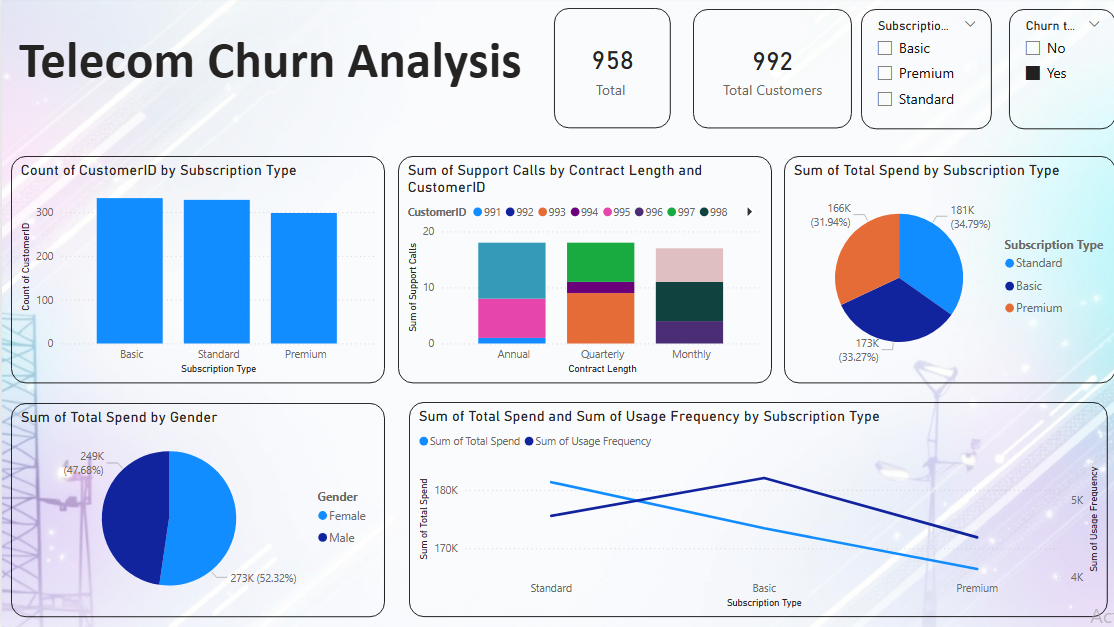

The page's visual inventory and layout, read from the dashboard file:
{"tool":"powerbi","page":{"name":"Page 1","canvas":[1280,720],"ordinal":0},"visuals":[{"type":"textbox","box":[10,0,280,280],"z":0},{"type":"textbox","box":[0,8.8,406.6,94.3],"z":1000},{"type":"card","fields":{"Values":["CountNonNull(Sheet1.CustomerID)"]},"box":[364.7,13.6,243.2,165.3],"z":2000},{"type":"card","fields":{"Values":["Count(Sheet1.CustomerID)"]},"box":[619.6,5.8,273.3,173.1],"z":3000},{"type":"slicer","fields":{"Values":["Sheet1.Subscription Type"]},"box":[892.9,8.8,198.4,185.8],"z":4000},{"type":"slicer","fields":{"Values":["Sheet1.churn_txt","Sheet1.Churn"]},"box":[1104,9.7,162.4,185.8],"z":5000},{"type":"columnChart","fields":{"Y":["CountNonNull(Sheet1.CustomerID)"],"Category":["Sheet1.Subscription Type"]},"box":[9.7,182.9,414.3,280.1],"z":6000},{"type":"columnChart","fields":{"Category":["Sheet1.Contract Length"],"Y":["Sum(Sheet1.Support Calls)"],"Series":["Sheet1.CustomerID"]},"box":[434.8,188.7,410.5,297.6],"z":7000},{"type":"pieChart","fields":{"Category":["Sheet1.Subscription Type"],"Y":["Sum(Sheet1.Total Spend)"]},"box":[857.9,214,394.9,272.3],"z":8000},{"type":"pieChart","fields":{"Category":["Sheet1.Gender"],"Y":["Sum(Sheet1.Total Spend)"]},"box":[0,467.8,414.3,233.4],"z":9000},{"type":"lineChart","fields":{"Category":["Sheet1.Subscription Type"],"Y":["Sum(Sheet1.Total Spend)"],"Y2":["Sum(Sheet1.Usage Frequency)"]},"box":[447.4,494.1,656.5,225.7],"z":10000}]}

Visuals, with their boxes in screenshot pixels (x1, y1, x2, y2), scaled from the page's 1280x720 canvas onto the 1114x627 screenshot:
textbox: 9:0:252:244
textbox: 0:8:354:90
card - CountNonNull(Sheet1.CustomerID): 317:12:529:156
card - Count(Sheet1.CustomerID): 539:5:777:156
slicer - Sheet1.Subscription Type: 777:8:950:169
slicer - Sheet1.churn_txt x Sheet1.Churn: 961:8:1102:170
columnChart - CountNonNull(Sheet1.CustomerID) x Sheet1.Subscription Type: 8:159:369:403
columnChart - Sheet1.Contract Length x Sum(Sheet1.Support Calls): 378:164:736:423
pieChart - Sheet1.Subscription Type x Sum(Sheet1.Total Spend): 747:186:1090:423
pieChart - Sheet1.Gender x Sum(Sheet1.Total Spend): 0:407:361:611
lineChart - Sheet1.Subscription Type x Sum(Sheet1.Total Spend): 389:430:961:626
